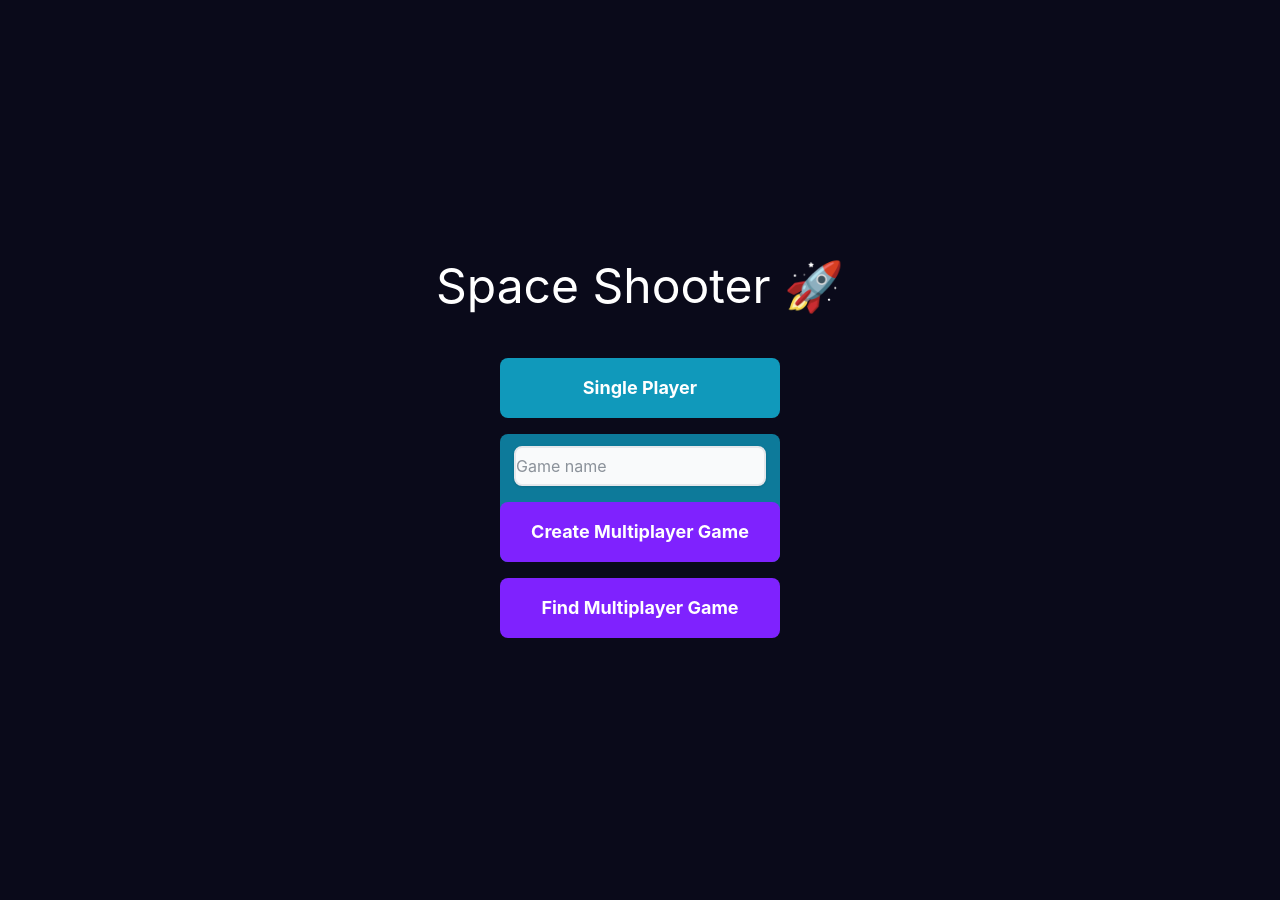
Test: ModeSelection › displays games in the modal when getAvailableGames returns data
Click the button "Find Multiplayer Game": click(640, 608) [500, 578, 780, 638]
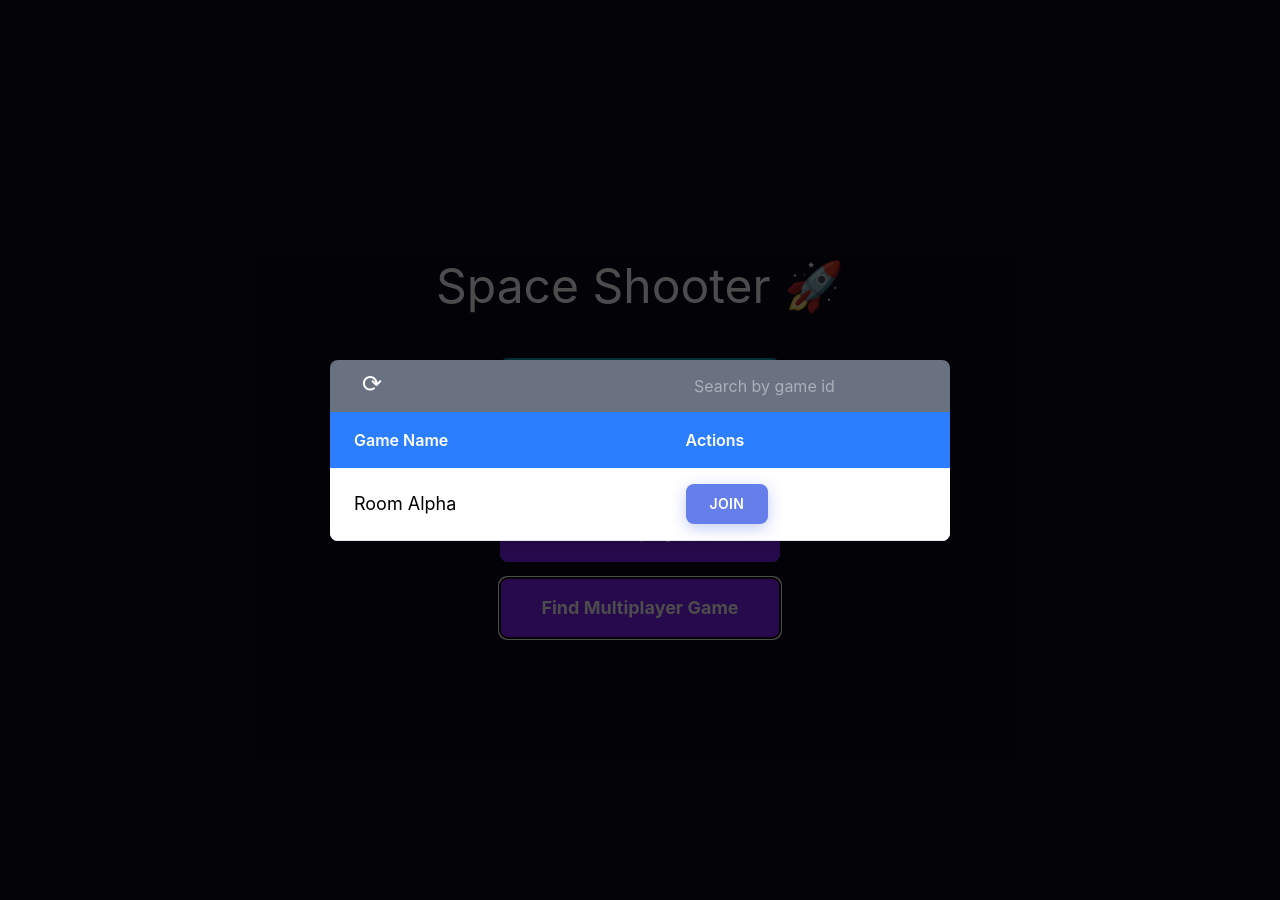
Check: the text "Room Alpha" is shown, box [354, 492, 456, 514]
